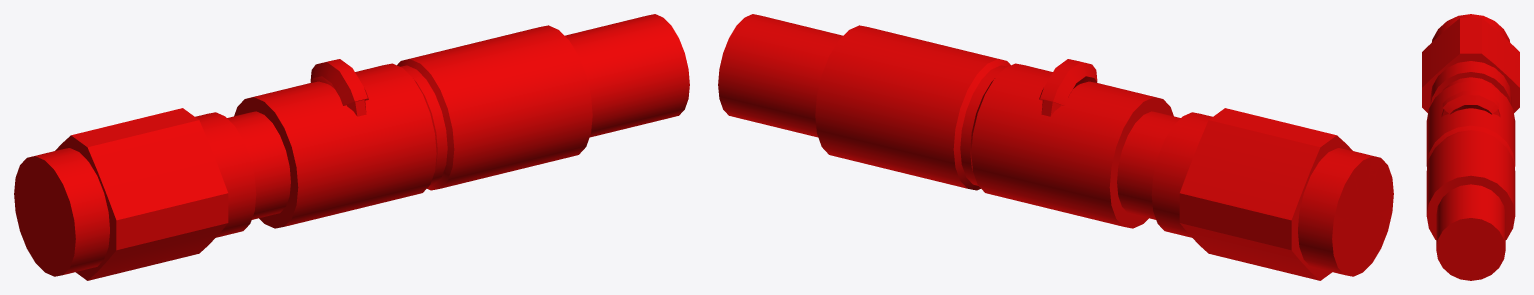
The model's file is Mangueira_Lado_A.fbx.
3 renders of one model, left to right at view 1: azimuth 30°, elevation 25°; view 2: azimuth 150°, elevation 25°; view 3: azimuth 270°, elevation 25°, orthographic. The views are drawn at different scales.
Visible parts, largest first — view 1: Mangueira_Lado_A; view 2: Mangueira_Lado_A; view 3: Mangueira_Lado_A.
Part boxes in pixels (x1,y1,x2,y2): Mangueira_Lado_A: [14, 14, 689, 280]; Mangueira_Lado_A: [718, 14, 1393, 280]; Mangueira_Lado_A: [1422, 14, 1519, 280].
Size of the model in its own units: 4.59 by 1.04 by 0.9564.
